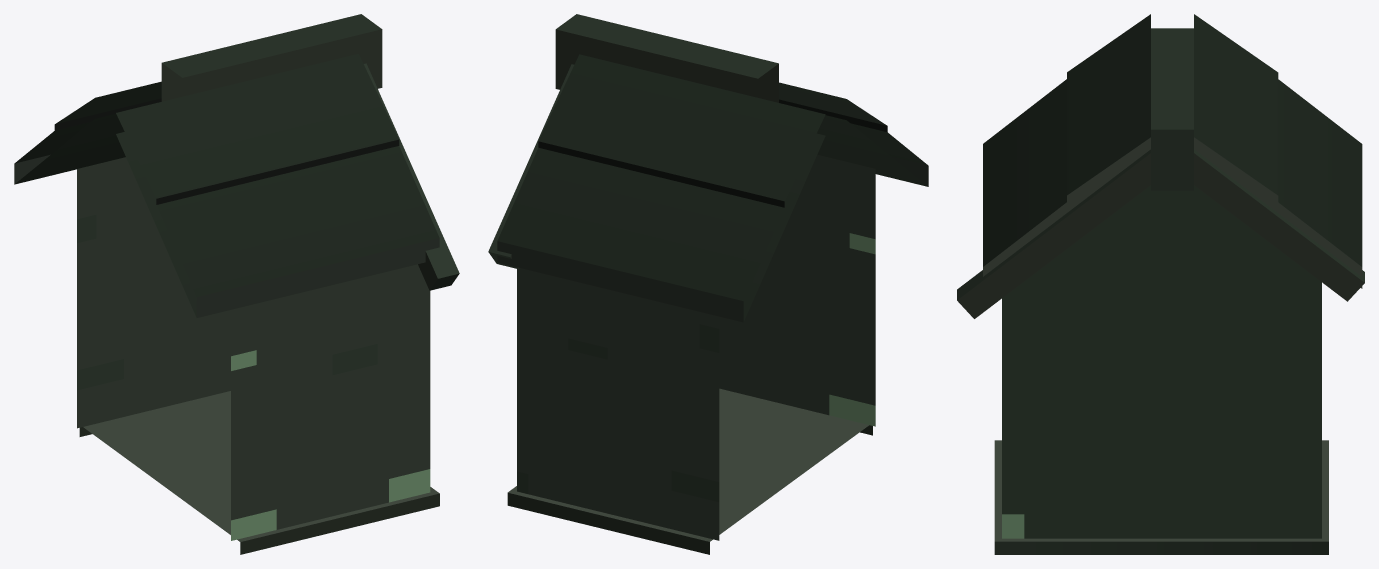
Rendered from SF_Bld_HouseAdd_StoneRoom_02.glb.
3 views of the same model, side by side, from view 1: azimuth 30°, elevation 25°; view 2: azimuth 150°, elevation 25°; view 3: azimuth 270°, elevation 25° (orthographic). The views are drawn at different scales.
Parts seen in each view (by area): view 1: SF_Bld_HouseAdd_StoneRoom_02; view 2: SF_Bld_HouseAdd_StoneRoom_02; view 3: SF_Bld_HouseAdd_StoneRoom_02.
Boxes of the visible parts, x1=… form: SF_Bld_HouseAdd_StoneRoom_02: x1=14, y1=14, x2=459, y2=554; SF_Bld_HouseAdd_StoneRoom_02: x1=488, y1=14, x2=928, y2=554; SF_Bld_HouseAdd_StoneRoom_02: x1=957, y1=14, x2=1364, y2=554.
Size of the model in its own units: 0.0435 by 0.0652 by 0.0555.
Materials: 1 (1 with a texture image).
